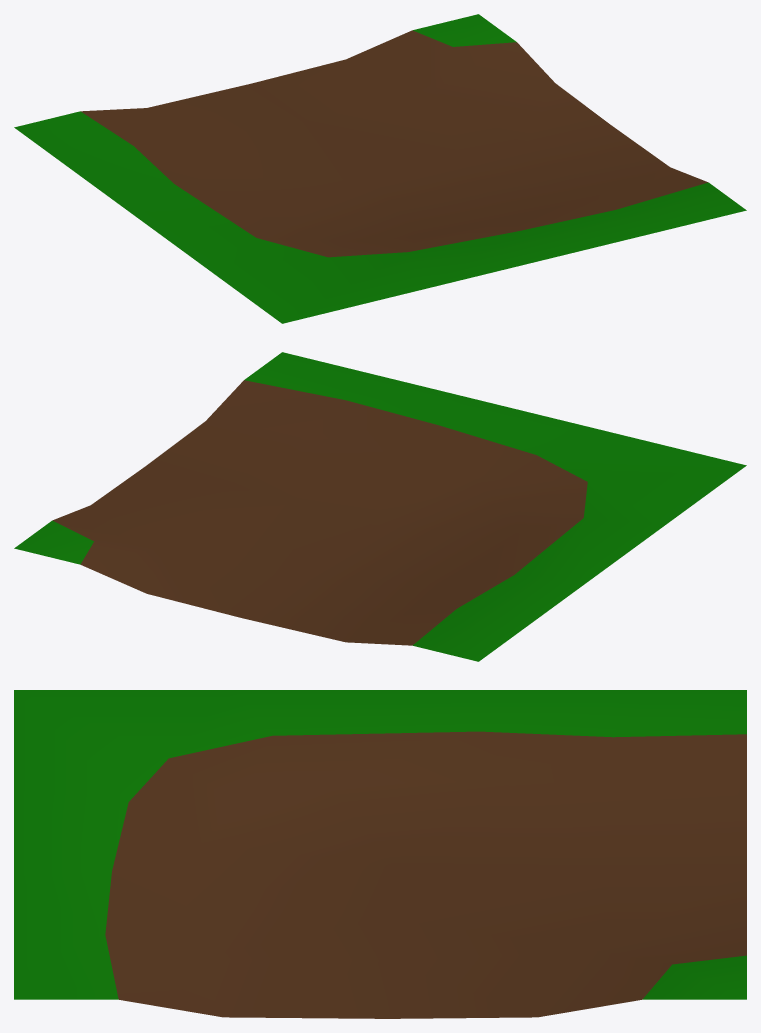
The model's file is path_corner.fbx.
3 renders of one model, top to bottom at view 1: azimuth 30°, elevation 25°; view 2: azimuth 150°, elevation 25°; view 3: azimuth 270°, elevation 25°, orthographic. The views are drawn at different scales.
Parts seen in each view (by area): view 1: path_corner; view 2: path_corner; view 3: path_corner.
Part boxes in pixels (box(x1,y1,x2,y2)): path_corner: box(14, 14, 746, 323); path_corner: box(14, 352, 746, 661); path_corner: box(14, 690, 746, 1018).
Bounding box in the file's own units: 100 × 3.18 × 100.
